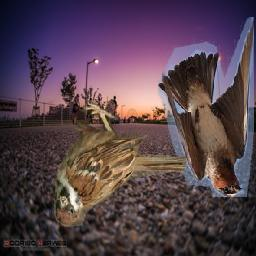Sparrow: (52, 101, 186, 228)
Swallow: (158, 17, 254, 197)
